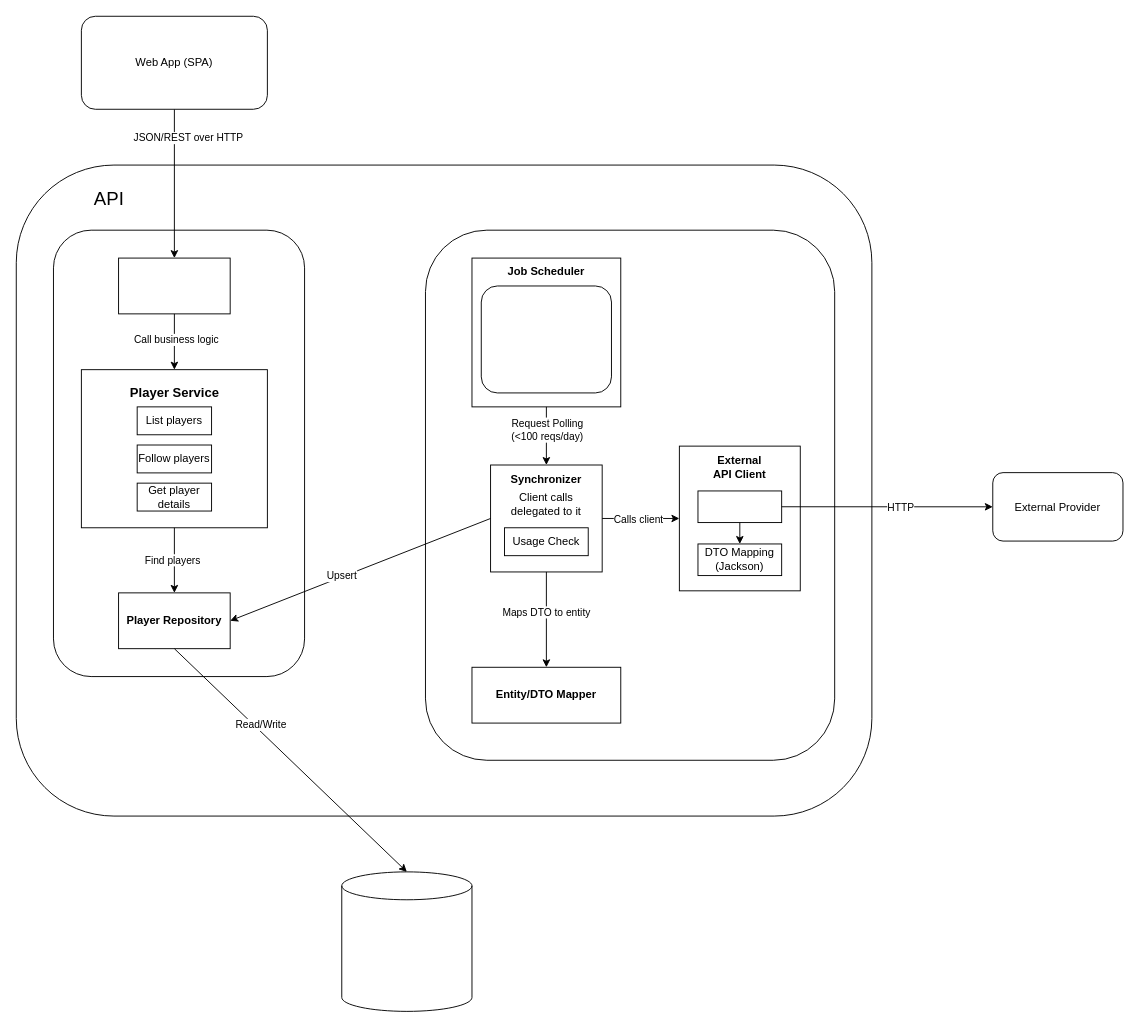
Image size: 1139x1028. Some labels were removed from this diagram. Here are the shapes that lost their labels. From the top down, the box of each, then its label:
(118, 257, 230, 314): Player Controller
(480, 285, 611, 393): Players (2x/week) Tournaments (4x/week) Matches (daily)
(697, 490, 782, 523): REST Client
(341, 871, 472, 1011): Relational Database
